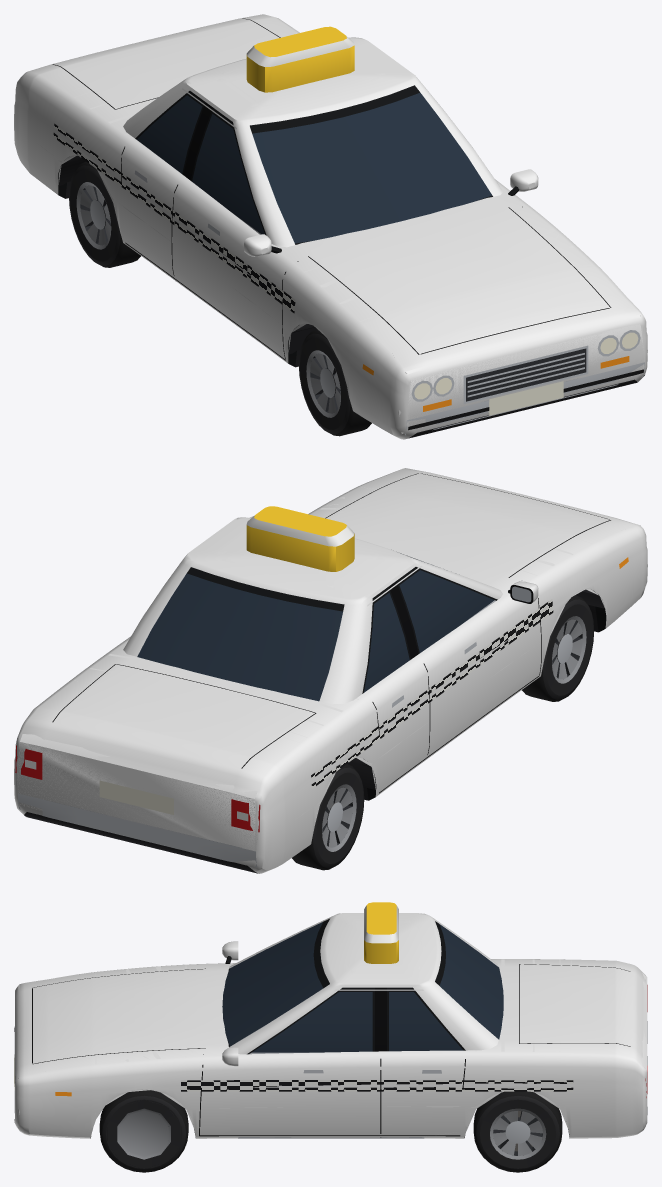
File: taxi.glb
3 views of the same model, one above another, from view 1: azimuth 30°, elevation 25°; view 2: azimuth 150°, elevation 25°; view 3: azimuth 270°, elevation 25° (orthographic). The views are drawn at different scales.
Visible parts, largest first — view 1: Body, BodyLod, Wheel_FR, Wheel_RR; view 2: Body, BodyLod, Wheel_FR, Wheel_RR; view 3: Body, Wheel_RL, WheelLod_FL, BodyLod, Wheel_FL.
Part boxes in pixels (x1=…): Body: x1=14, y1=14, x2=647, y2=439; BodyLod: x1=41, y1=27, x2=647, y2=434; Wheel_FR: x1=298, y1=329, x2=371, y2=436; Wheel_RR: x1=69, y1=161, x2=140, y2=267; Body: x1=14, y1=468, x2=647, y2=873; BodyLod: x1=17, y1=487, x2=640, y2=861; Wheel_FR: x1=522, y1=595, x2=594, y2=701; Wheel_RR: x1=292, y1=764, x2=364, y2=870; Body: x1=14, y1=902, x2=647, y2=1138; Wheel_RL: x1=473, y1=1091, x2=562, y2=1172; WheelLod_FL: x1=102, y1=1098, x2=186, y2=1168; BodyLod: x1=14, y1=902, x2=647, y2=1137; Wheel_FL: x1=99, y1=1090, x2=188, y2=1172.
Bounding box in the file's own units: 2.02 × 1.7 × 4.71.
Materials: 8 (6 with a texture image).
